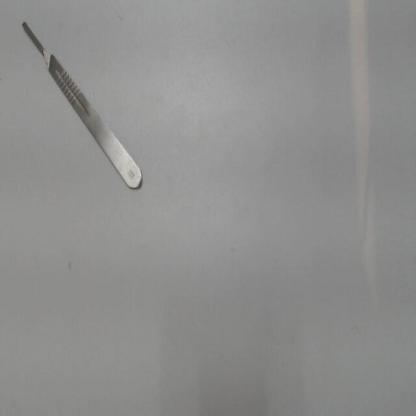No.4 BP Handle: (18, 13, 150, 195)
